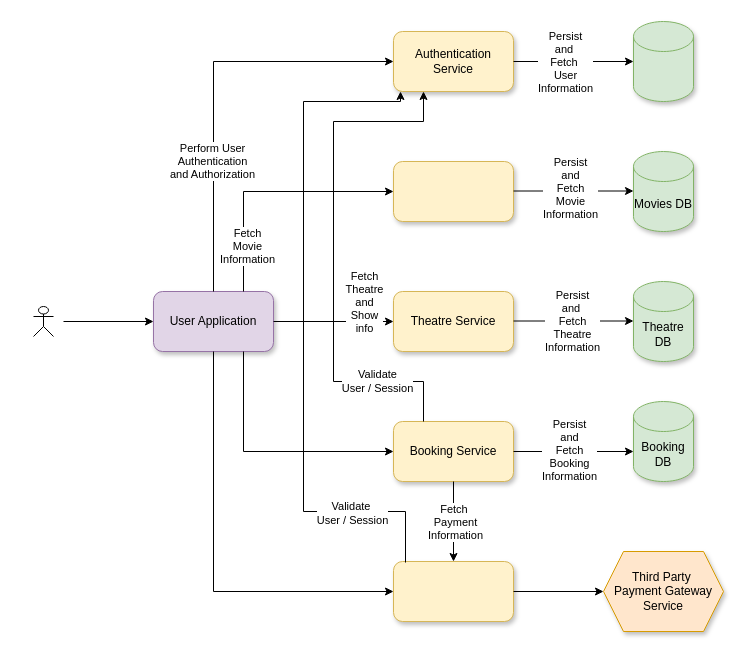
Image size: 747x656. Some labels were removed from this diagram. The centre of each missing label's shape, as x and y in pixels:
Customer: the point at 43,321
Movie Service: the point at 454,192
Payment Service: the point at 454,592
User DB: the point at 664,62
